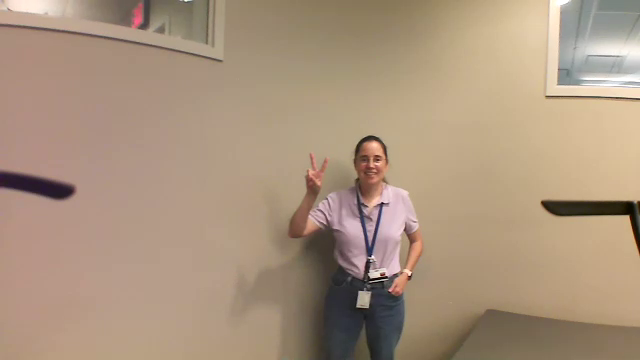peace: (301, 147, 331, 194)
